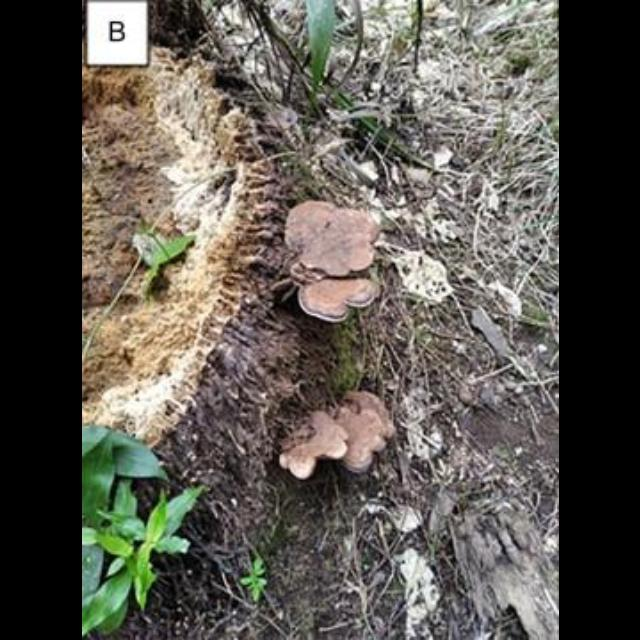ganoderma: (286, 198, 385, 280), (334, 389, 399, 478), (275, 411, 351, 482), (297, 278, 384, 327)
